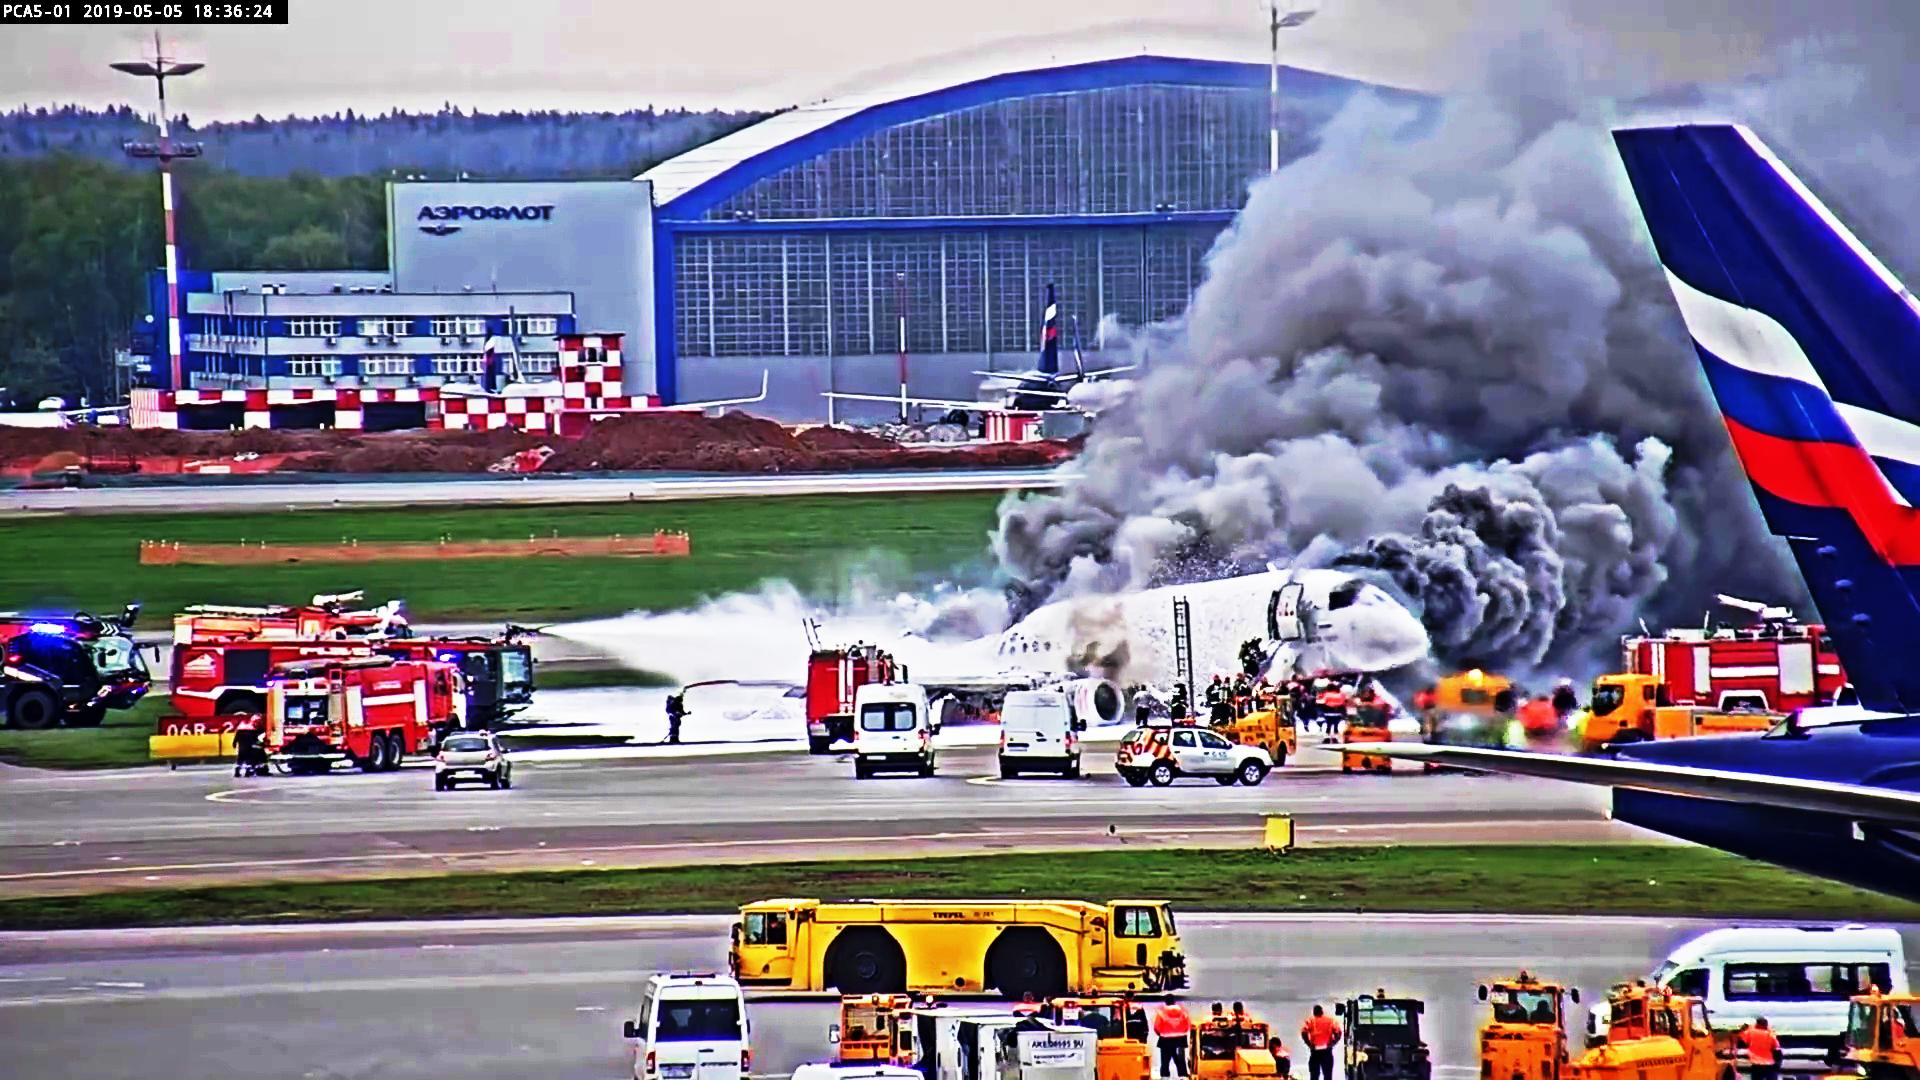smoke: (1170, 298, 1623, 534), (1386, 440, 1687, 649)
